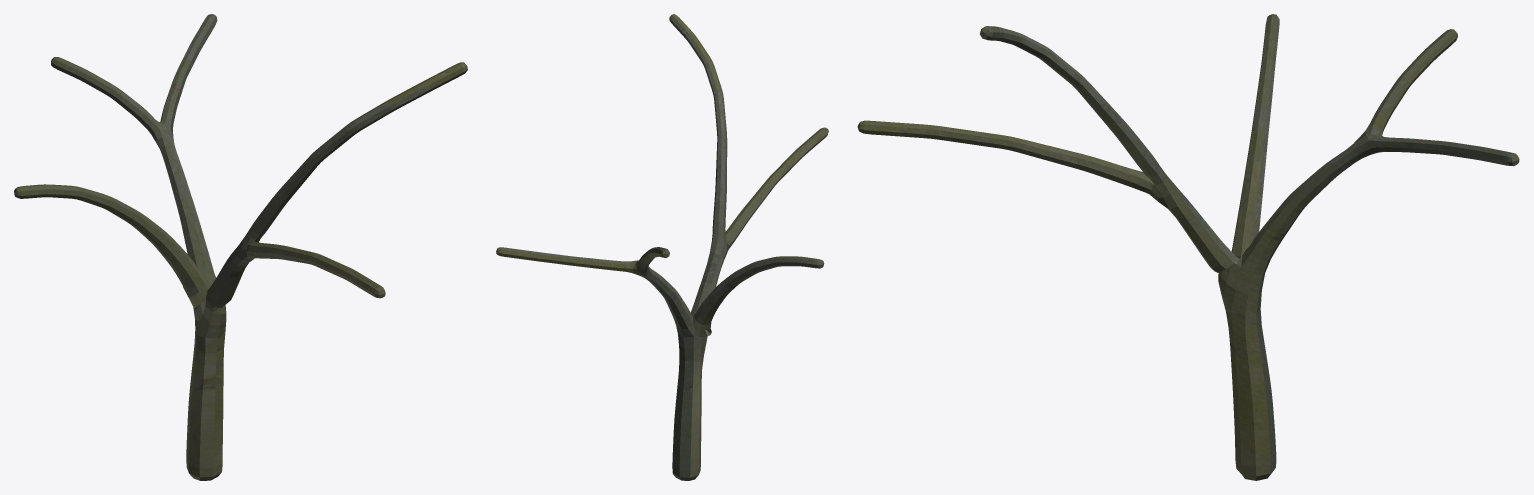
The model's file is beechTwig.glb.
3 renders of one model, left to right at view 1: azimuth 30°, elevation 25°; view 2: azimuth 150°, elevation 25°; view 3: azimuth 270°, elevation 25°, orthographic. The views are drawn at different scales.
Parts seen in each view (by area): view 1: twig; view 2: twig; view 3: twig.
Part boxes in pixels (bbox=[...]): twig: bbox=[14, 14, 467, 480]; twig: bbox=[496, 14, 828, 480]; twig: bbox=[857, 14, 1519, 480].
Size of the model in its own units: 0.9125 by 1.27 by 1.45.
Materials: 1 (1 with a texture image).
